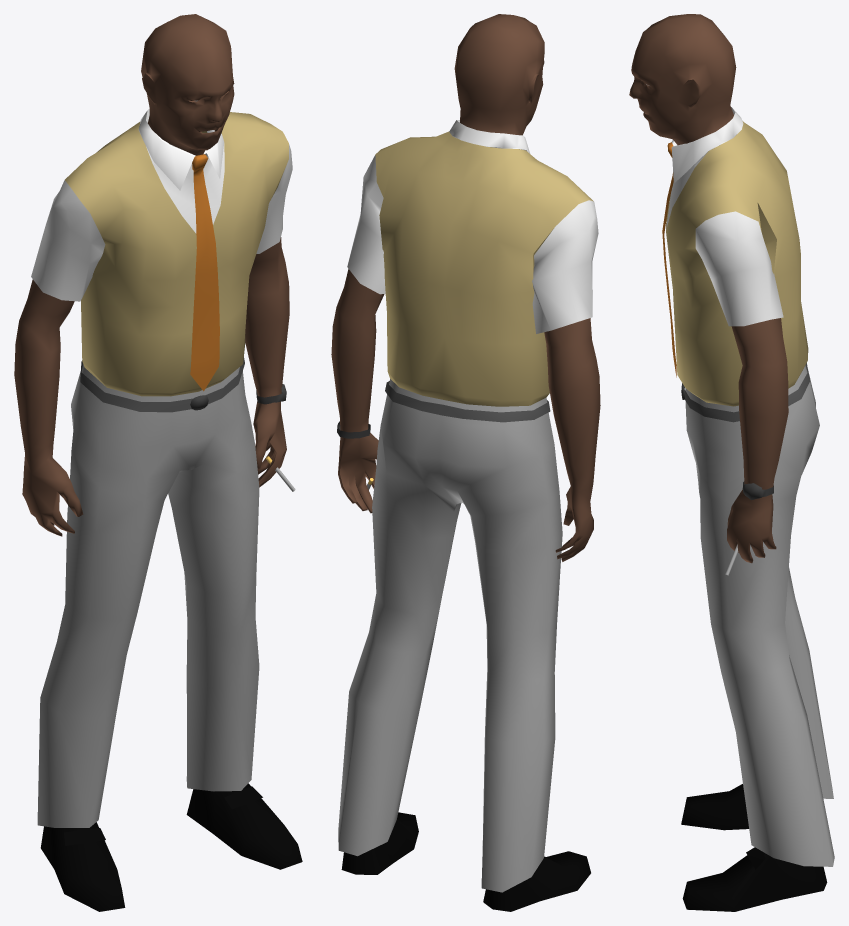
File: hombre1.fbx
3 renders of one model, left to right at view 1: azimuth 30°, elevation 25°; view 2: azimuth 150°, elevation 25°; view 3: azimuth 270°, elevation 25°, orthographic. The views are drawn at different scales.
Visible parts, largest first — view 1: Group2, Group9, Group8, Group7, Group1, Group4, Group3; view 2: Group2, Group9, Group8, Group7, Group1, Group3; view 3: Group2, Group8, Group9, Group7, Group1, Group3, Group4.
Part boxes in pixels (left/top/right/bottom): Group2: left=37, top=364, right=259, bottom=827; Group9: left=65, top=112, right=288, bottom=396; Group8: left=14, top=14, right=289, bottom=536; Group7: left=31, top=109, right=292, bottom=301; Group1: left=40, top=384, right=302, bottom=911; Group4: left=190, top=154, right=219, bottom=391; Group3: left=80, top=357, right=244, bottom=412; Group2: left=338, top=379, right=562, bottom=892; Group9: left=375, top=131, right=593, bottom=406; Group8: left=331, top=14, right=600, bottom=561; Group7: left=347, top=120, right=598, bottom=333; Group1: left=337, top=421, right=590, bottom=911; Group3: left=385, top=381, right=550, bottom=422; Group2: left=685, top=365, right=834, bottom=866; Group8: left=629, top=14, right=788, bottom=563; Group9: left=666, top=121, right=808, bottom=406; Group7: left=666, top=107, right=783, bottom=326; Group1: left=681, top=481, right=827, bottom=911; Group3: left=684, top=363, right=810, bottom=422; Group4: left=662, top=142, right=676, bottom=377.
Bounding box in the file's own units: 0.6049 × 1.88 × 0.4163.
